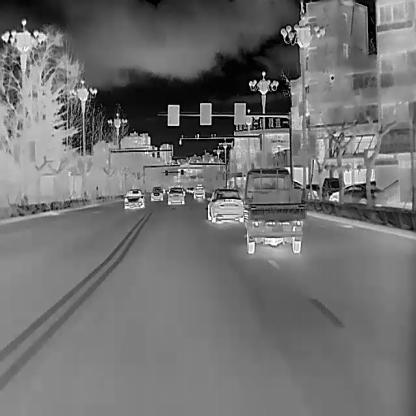car: (329, 183, 387, 206), (206, 188, 244, 223), (123, 188, 144, 210), (322, 177, 344, 197), (166, 186, 186, 205), (305, 183, 320, 198), (150, 186, 163, 202), (192, 184, 205, 199)
truck: (242, 167, 307, 252)
